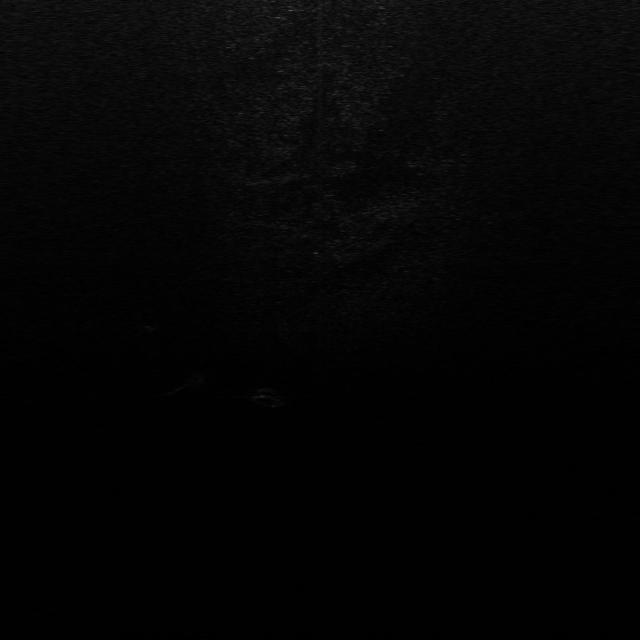ball: (183, 367, 214, 389)
circle cage: (137, 314, 163, 331)
tyre: (252, 388, 289, 408)
